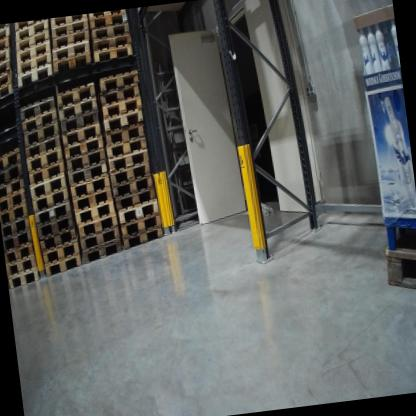pallet: (382, 240, 416, 298), (118, 221, 169, 252), (101, 135, 151, 166), (54, 94, 101, 126), (75, 225, 125, 255), (60, 119, 108, 150), (54, 79, 99, 112), (65, 158, 111, 190), (76, 211, 121, 243), (106, 143, 152, 174), (118, 209, 165, 239), (92, 68, 143, 95), (77, 241, 126, 268), (59, 137, 106, 165), (115, 193, 160, 222), (109, 185, 159, 211), (107, 159, 156, 185), (64, 149, 109, 177), (18, 92, 57, 124), (29, 199, 72, 228), (43, 251, 86, 280), (56, 109, 102, 136), (35, 224, 79, 252), (27, 171, 68, 201), (69, 174, 112, 202), (18, 117, 59, 145), (27, 159, 68, 187), (48, 51, 92, 77), (36, 236, 80, 262), (74, 201, 116, 228), (29, 187, 70, 214), (101, 109, 145, 134), (26, 145, 65, 173), (98, 94, 143, 118), (14, 65, 55, 91), (110, 174, 154, 198), (71, 189, 115, 213), (9, 20, 51, 44), (103, 124, 149, 145), (17, 106, 57, 130), (2, 227, 35, 256), (48, 42, 91, 64), (20, 132, 63, 154), (13, 51, 54, 74), (5, 254, 39, 281), (14, 41, 53, 64), (34, 213, 73, 236), (4, 242, 37, 269), (49, 30, 91, 51), (90, 34, 135, 53), (0, 162, 29, 191), (13, 28, 51, 50), (96, 83, 142, 101), (0, 146, 28, 175), (93, 47, 137, 65), (8, 268, 41, 291), (0, 202, 32, 225), (50, 18, 89, 36), (2, 216, 31, 240), (88, 24, 134, 39), (86, 13, 129, 29), (0, 189, 27, 212), (0, 177, 27, 199), (0, 81, 20, 110), (9, 19, 48, 30), (49, 16, 87, 27), (0, 70, 17, 94), (88, 9, 127, 18), (0, 61, 15, 83), (0, 48, 13, 69), (0, 29, 12, 48), (0, 38, 10, 59), (0, 24, 11, 39)
